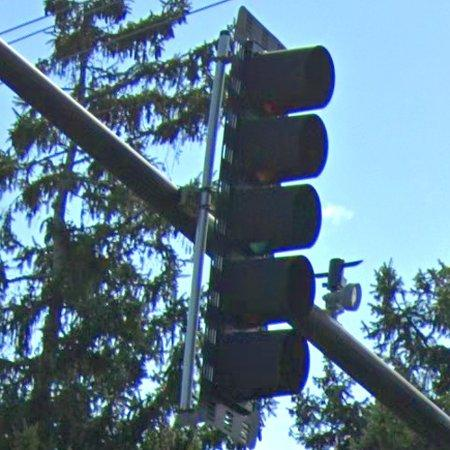traffic lights: (202, 7, 335, 409)
